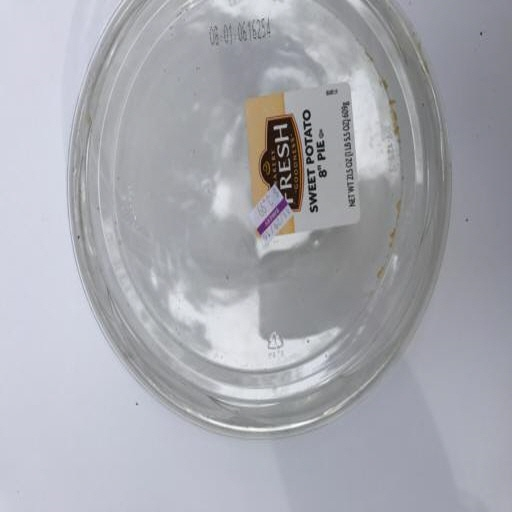Plastic_5: (67, 1, 452, 439)
